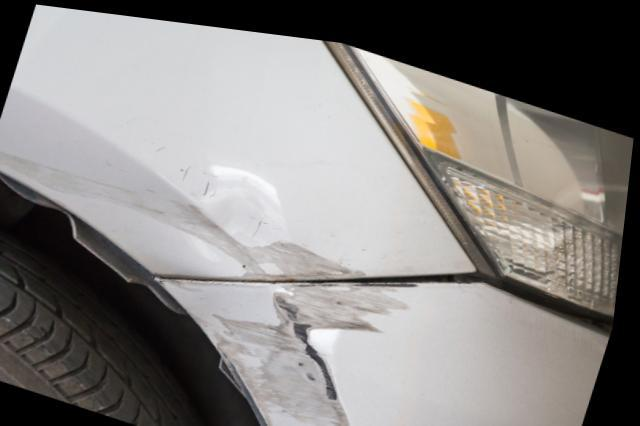dent: (196, 188, 272, 254)
scratch: (221, 270, 425, 426), (0, 149, 200, 230), (242, 232, 374, 275)
